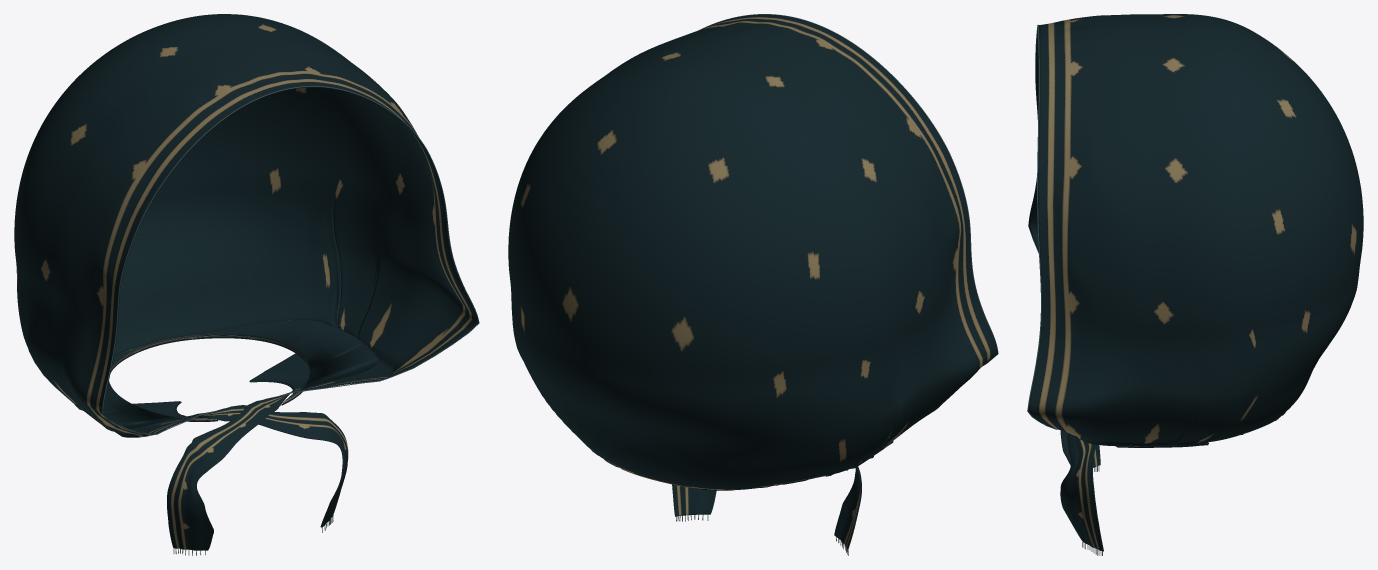
Rendered from Feminine-Feminine-straight-tshirt-pashmina250-headgear-b949cf31.glb.
The picture shows the model from 3 angles, left to right: view 1: azimuth 30°, elevation 25°; view 2: azimuth 150°, elevation 25°; view 3: azimuth 270°, elevation 25°; orthographic projection. The views are drawn at different scales.
Parts seen in each view (by area): view 1: 226 headgear / Headwear / continuous woven pashmina239, 226 headgear / Headwear / face edge239; view 2: 226 headgear / Headwear / continuous woven pashmina239, 226 headgear / Headwear / face edge239; view 3: 226 headgear / Headwear / continuous woven pashmina239, 226 headgear / Headwear / face edge239.
Part boxes in pixels (x1=…): 226 headgear / Headwear / continuous woven pashmina239: x1=14, y1=14, x2=478, y2=550; 226 headgear / Headwear / face edge239: x1=102, y1=86, x2=479, y2=434; 226 headgear / Headwear / continuous woven pashmina239: x1=508, y1=14, x2=997, y2=549; 226 headgear / Headwear / face edge239: x1=700, y1=14, x2=998, y2=365; 226 headgear / Headwear / continuous woven pashmina239: x1=1028, y1=14, x2=1363, y2=551; 226 headgear / Headwear / face edge239: x1=1027, y1=25, x2=1057, y2=429.
Bounding box in the file's own units: 1.17 × 1.42 × 0.8893.
Materials: 3 (1 with a texture image).
